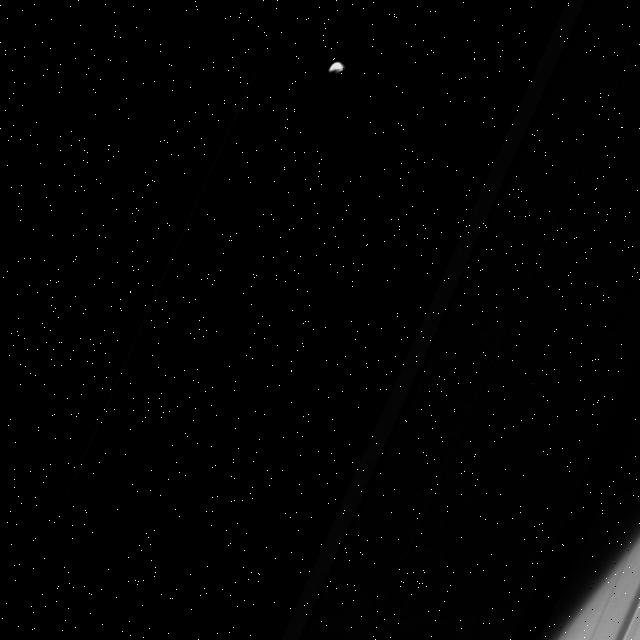Saturn: (344, 0, 640, 640)
